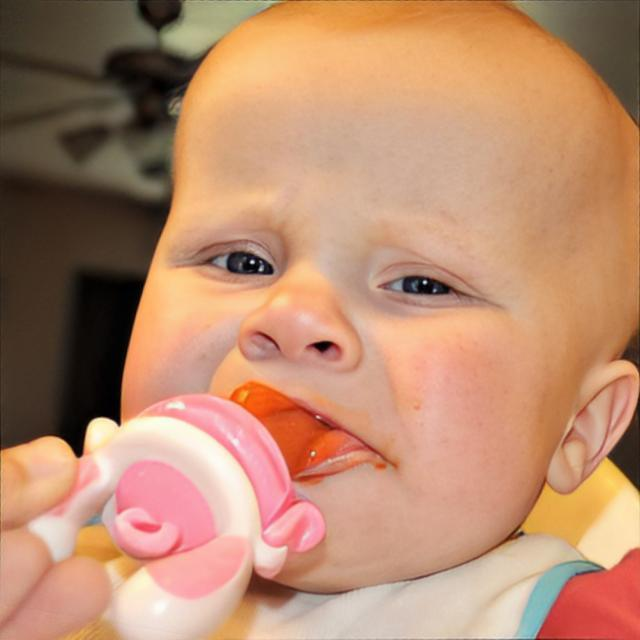sad: (118, 44, 573, 594)
